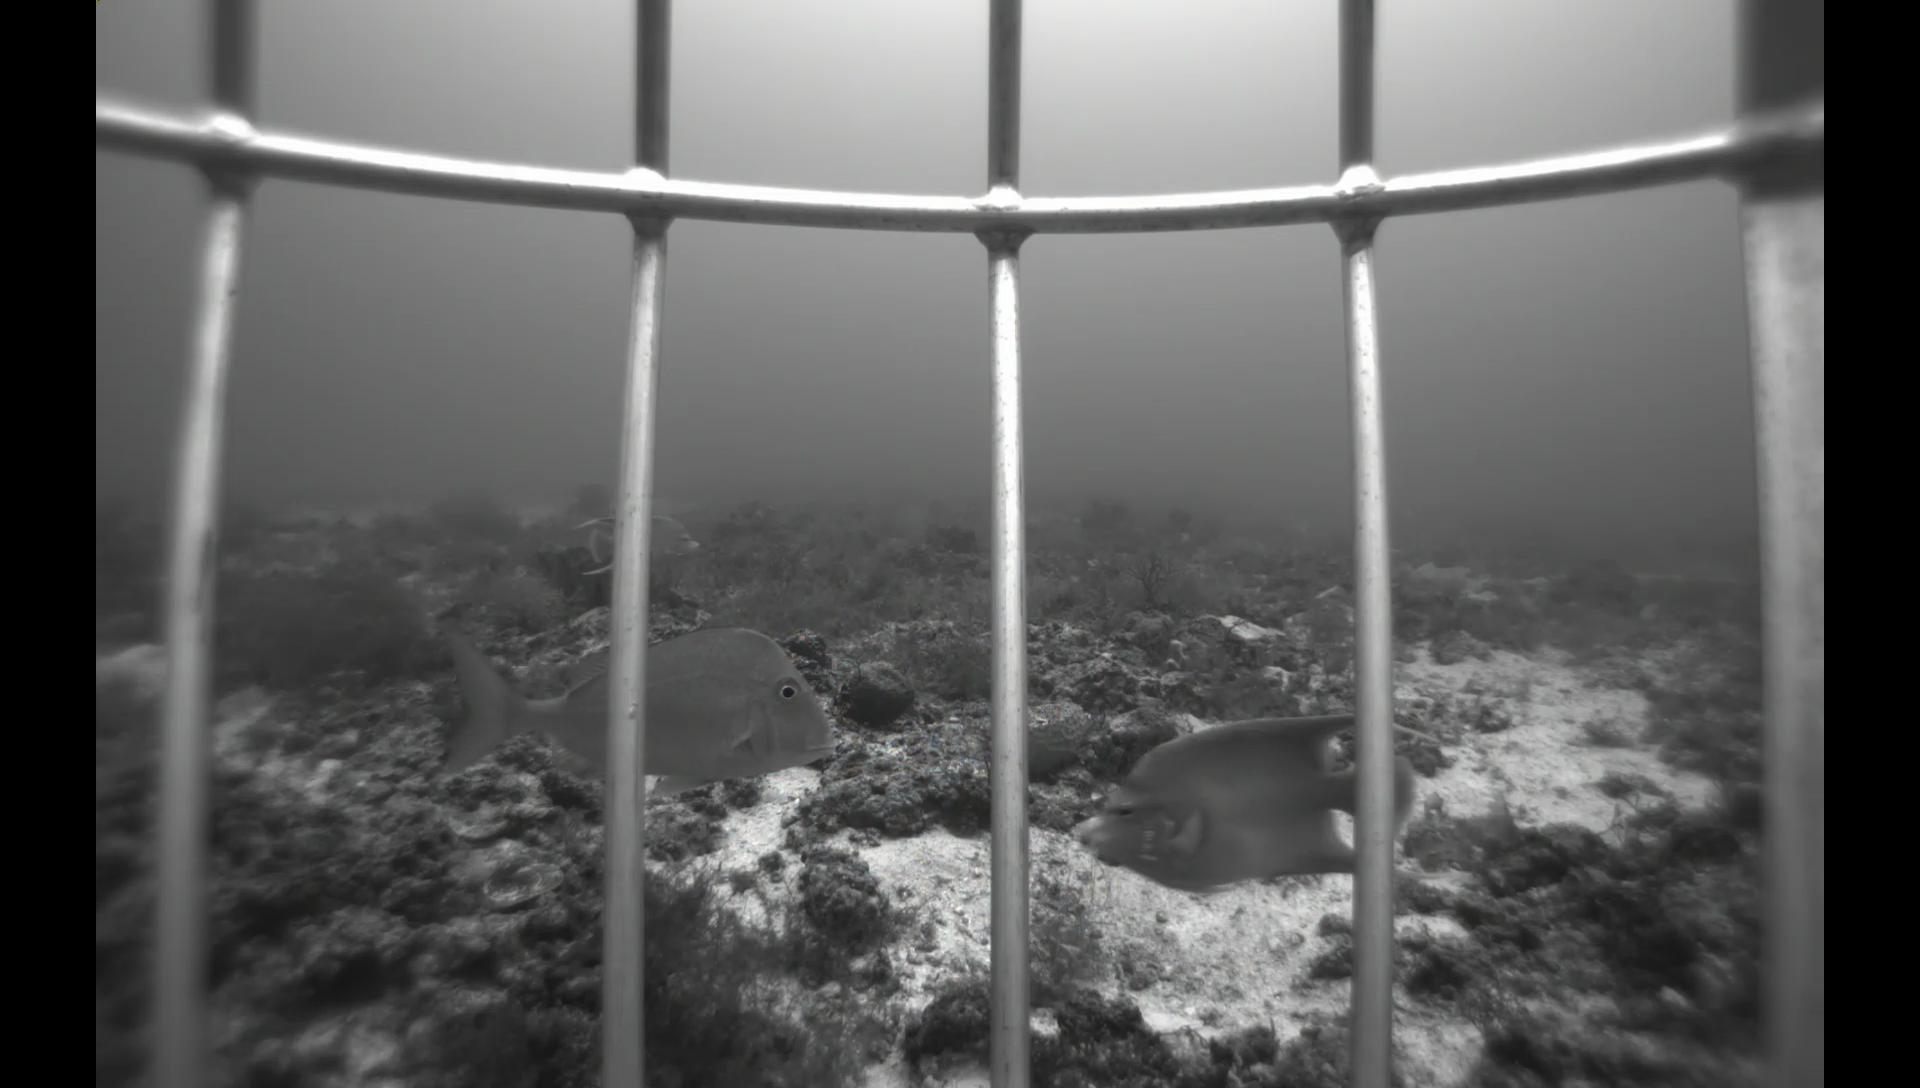CALAMUSNODOSUS-170210608: (419, 613, 843, 786)
HOLACANTHUSBERMUDENSIS-170290102: (1064, 698, 1440, 909), (564, 510, 702, 583)
MYCTEROPERCAPHENAX-170022105: (847, 512, 889, 557)
